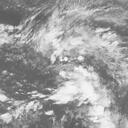cyclone: (40, 20, 112, 92)
